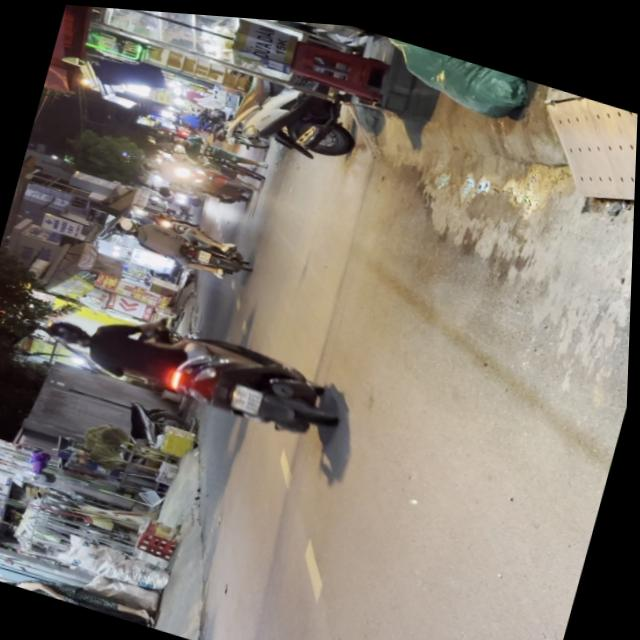helmet: (44, 313, 94, 350)
licenseplate: (33, 283, 352, 445)
nohelmet: (231, 379, 265, 411)
